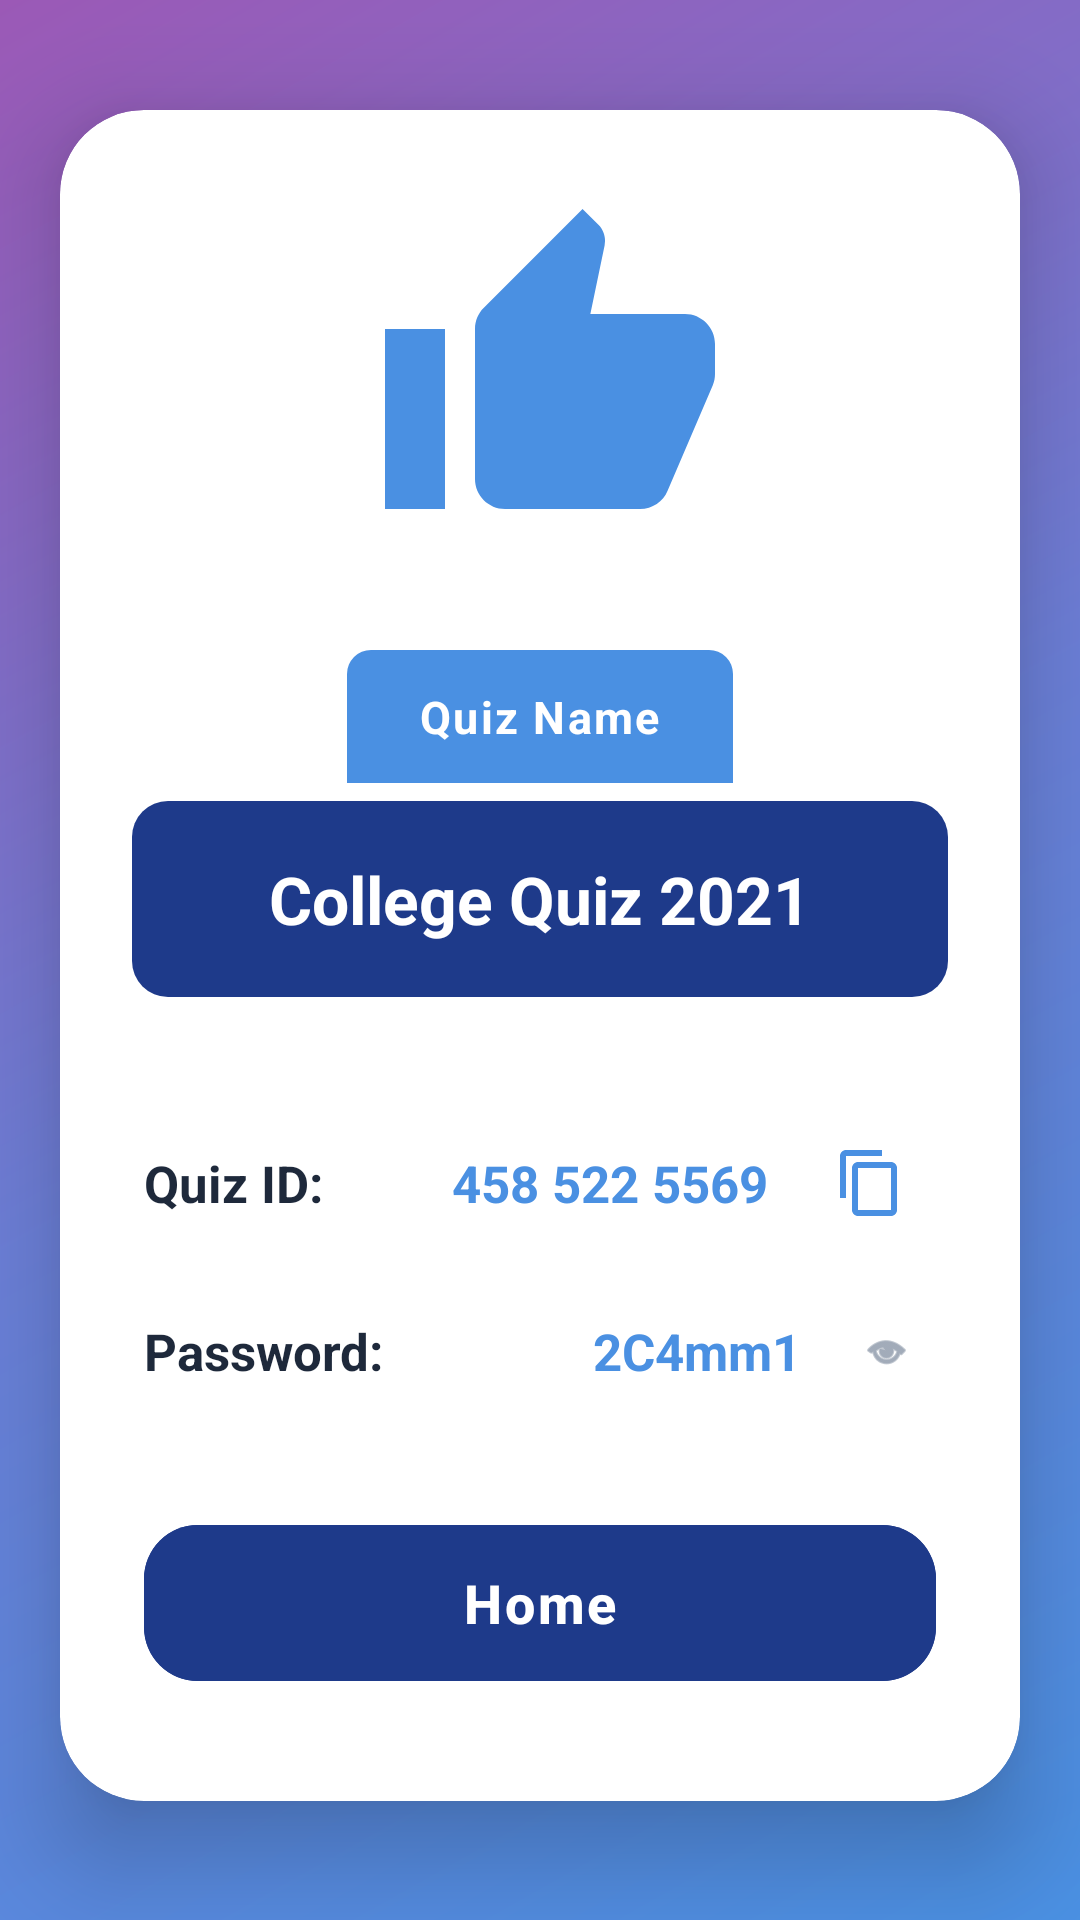

Named icons in this screenshot (1080x1920) and their centers, point (x, y):
Copy Quiz ID: point (868, 1183)
thumbs up: point (550, 359)
Toggle password visibility: point (886, 1352)
